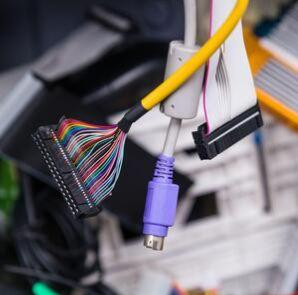electronic: (30, 1, 264, 251), (31, 121, 103, 219)
